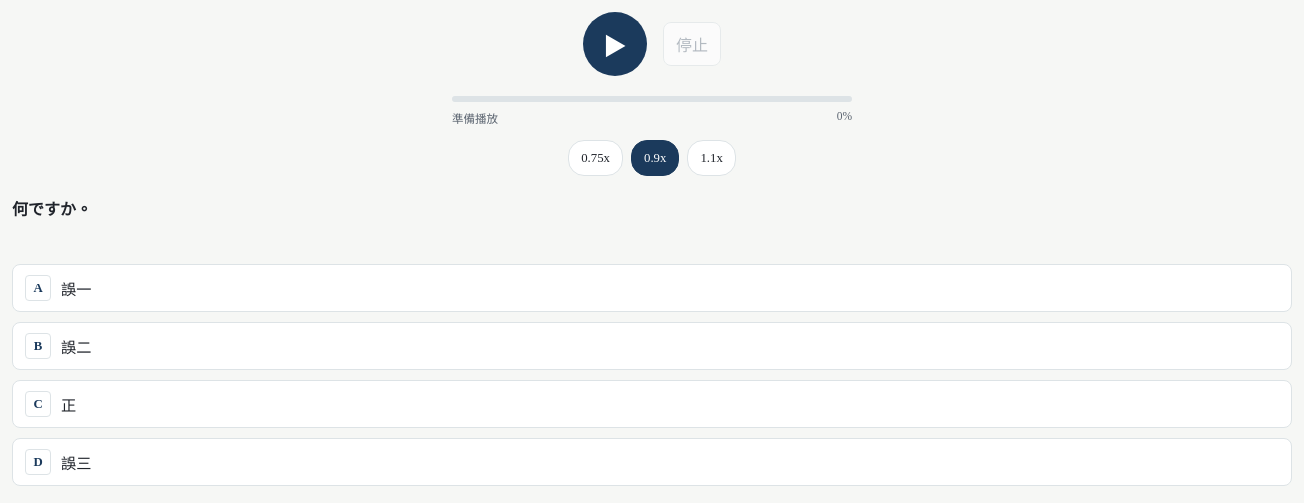
Test: replay creates a fresh utterance and ignores stale end, error and boundary events
Click the button "▶": click(615, 44) [583,12,647,76]
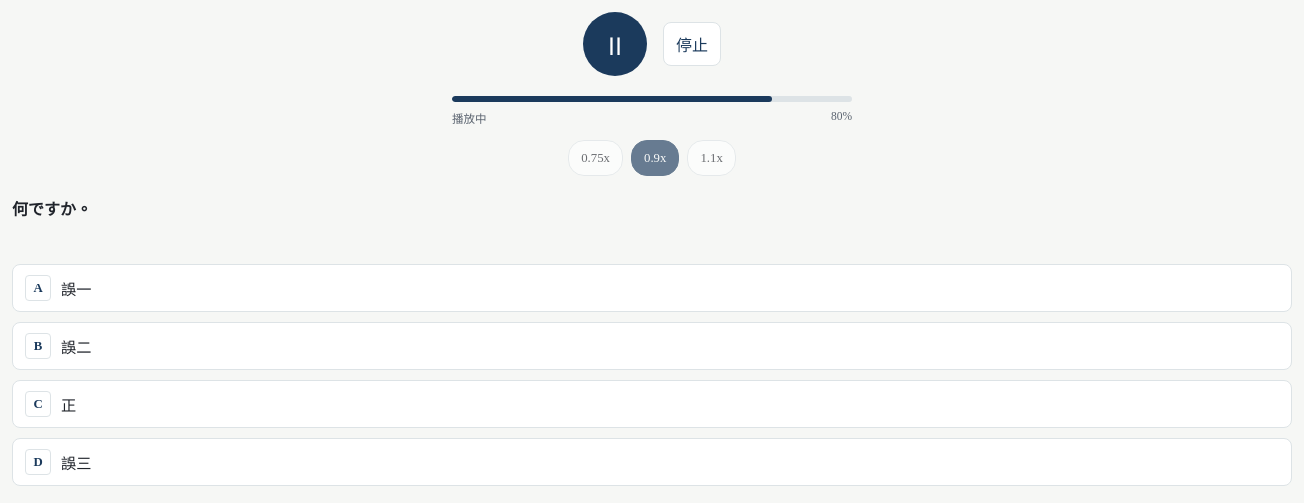
Click the button with class "speech-stop": click(692, 44) [663,22,721,66]
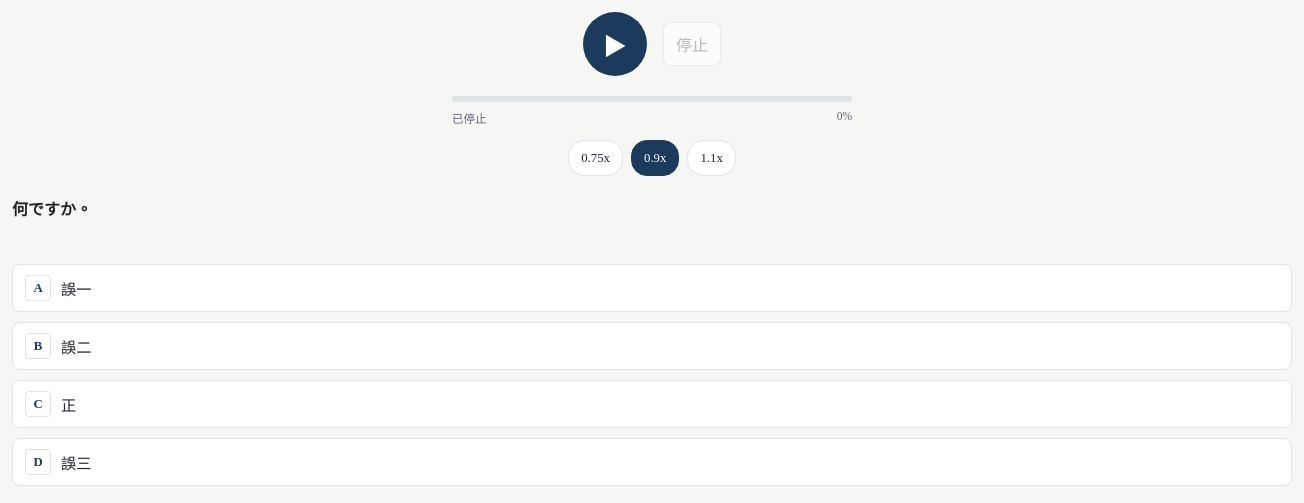
Click the button "▶": click(615, 44) [583,12,647,76]
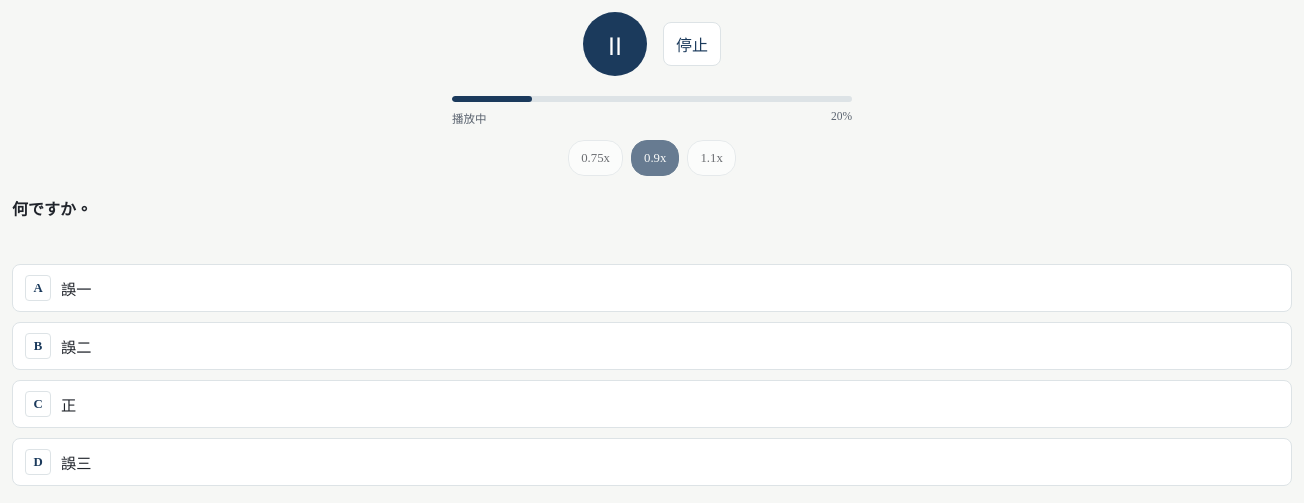
expect the text "播放中" is shown: met, box [452,110,486,130]
